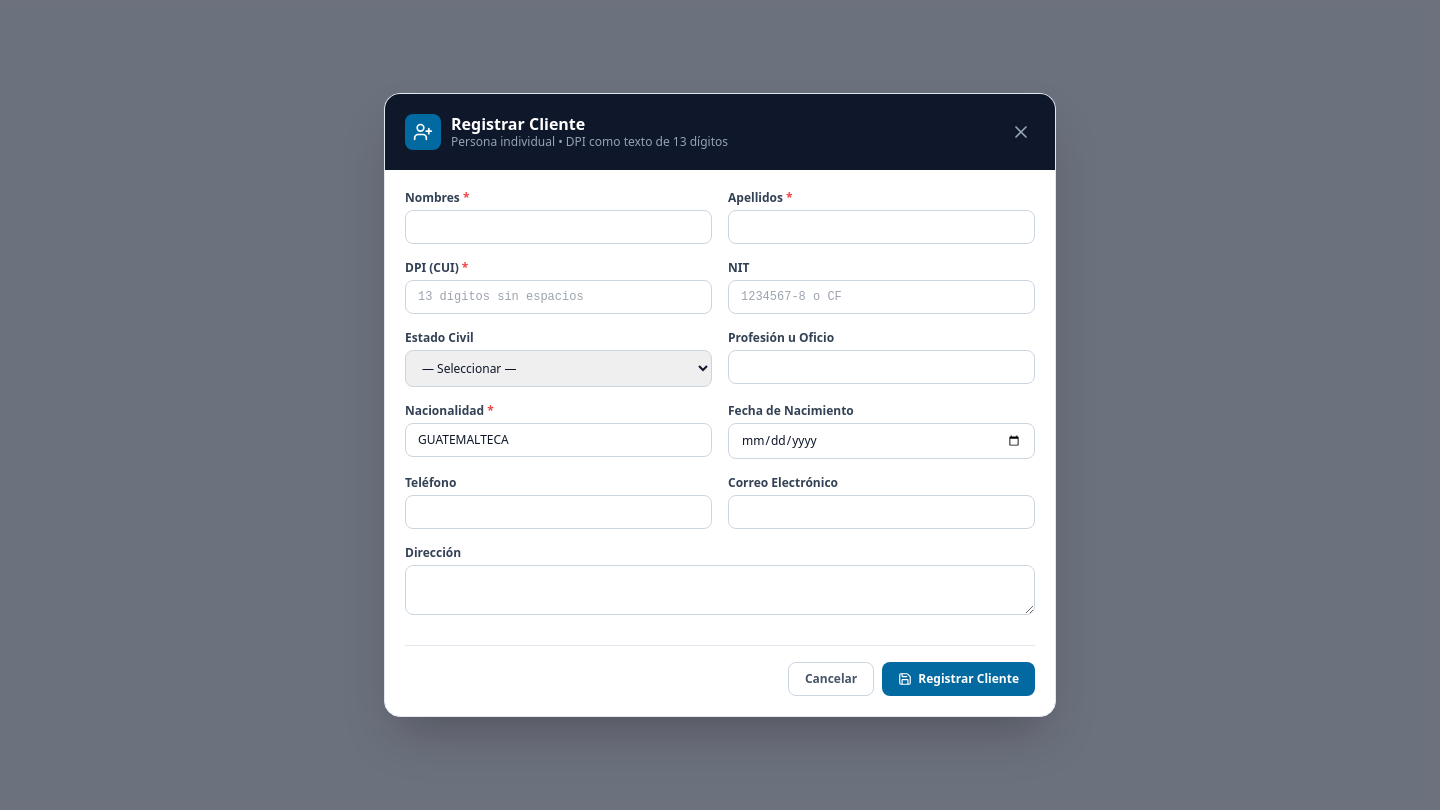
Scenario: ClientFormModal › rechaza un DPI con menos de 13 dígitos y no envía el formulario
In the field labelled "Nombres *": (558, 227) [405, 210, 712, 244], type "Juan Carlos"
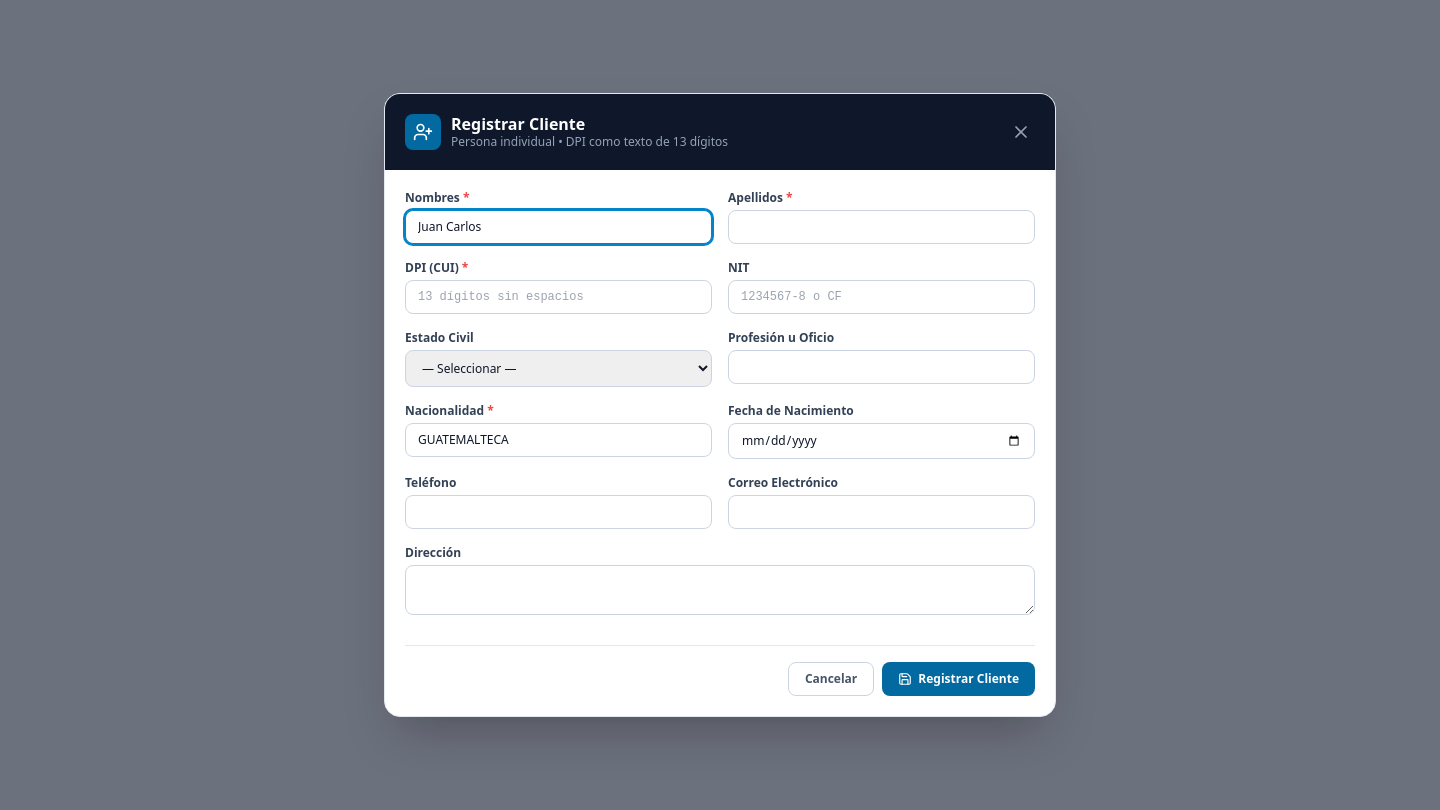
In the field labelled "Apellidos *": (882, 227) [728, 210, 1035, 244], type "Pérez López"
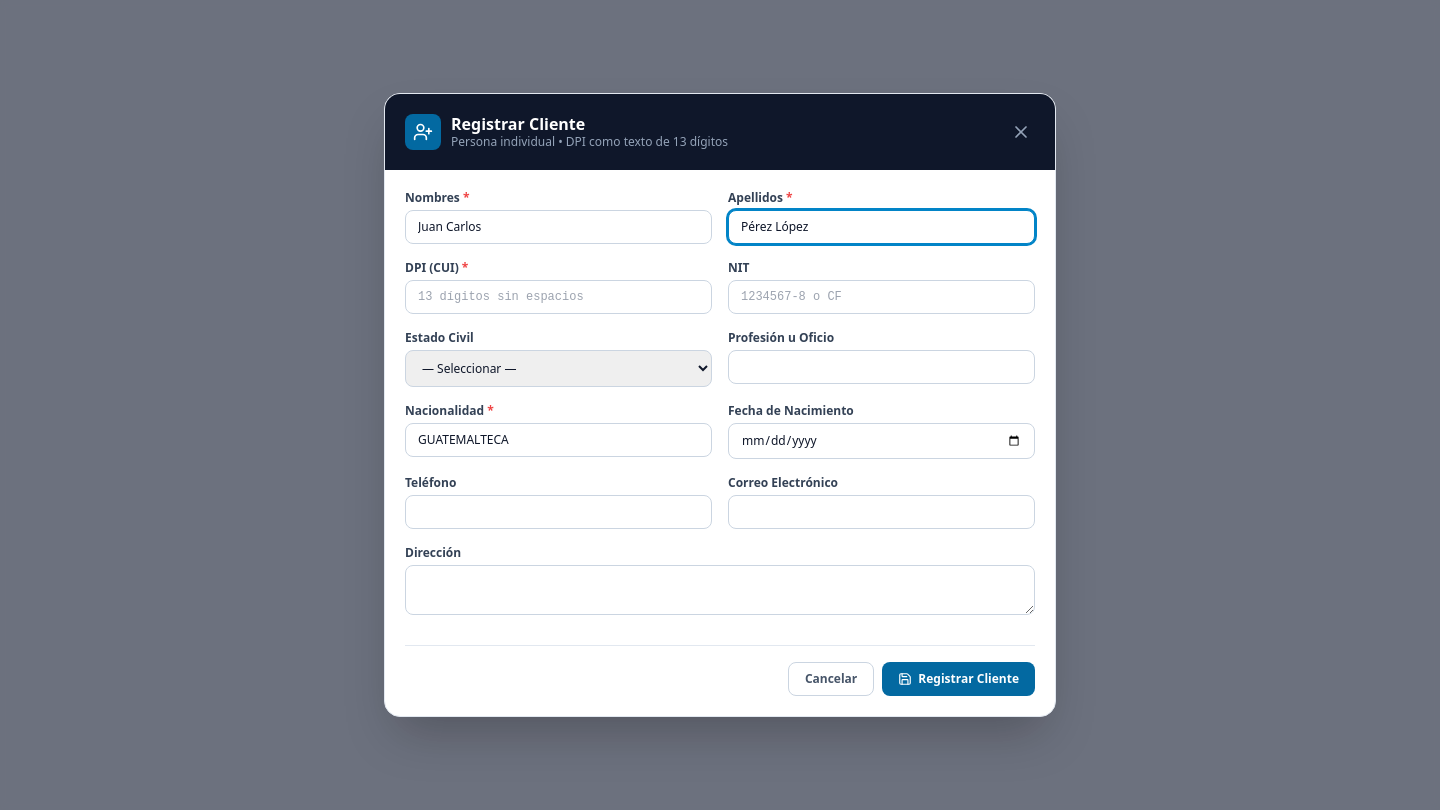
In the field labelled "DPI (CUI) *": (558, 297) [405, 280, 712, 314], type "12345"
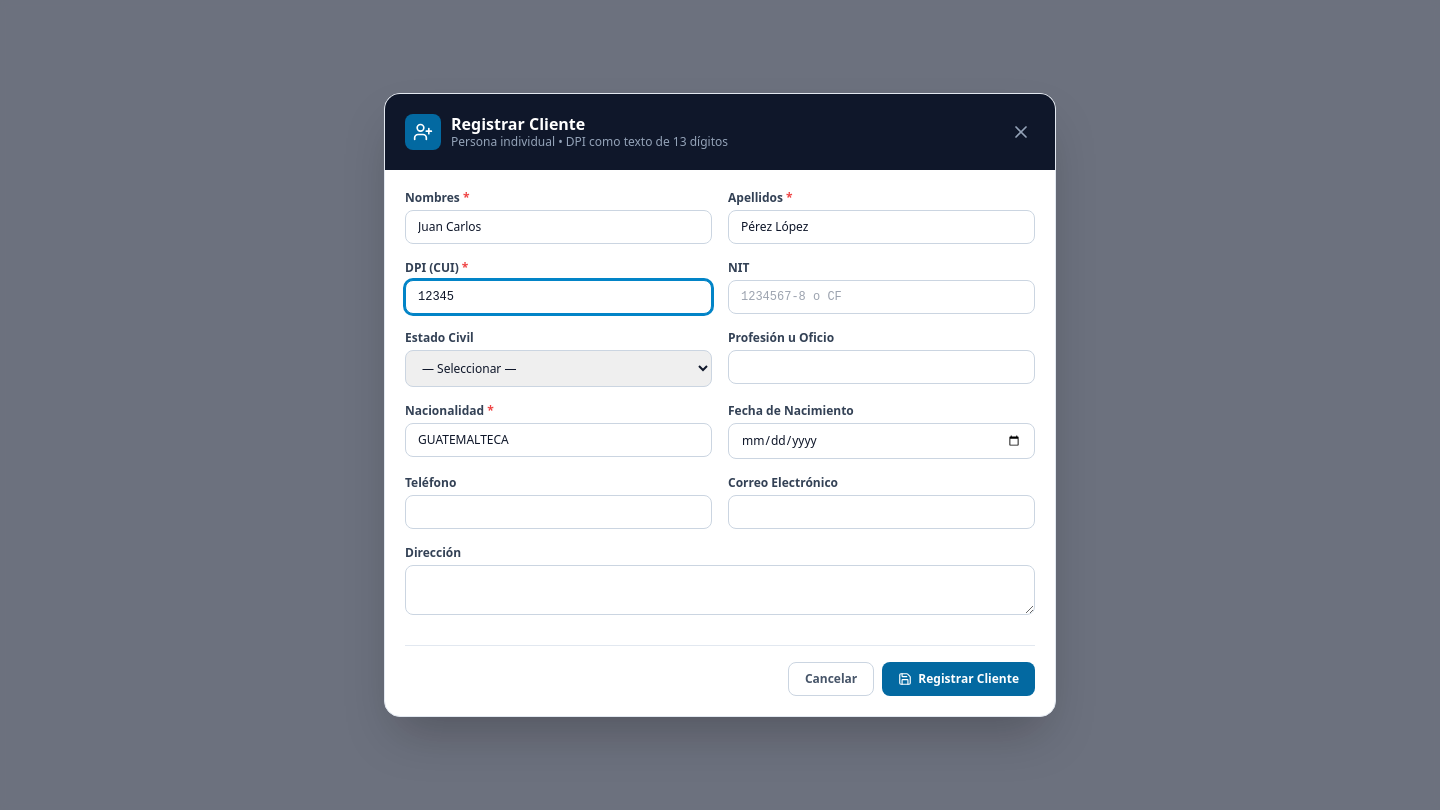
Click the button "Registrar Cliente": (959, 679) [882, 662, 1035, 696]
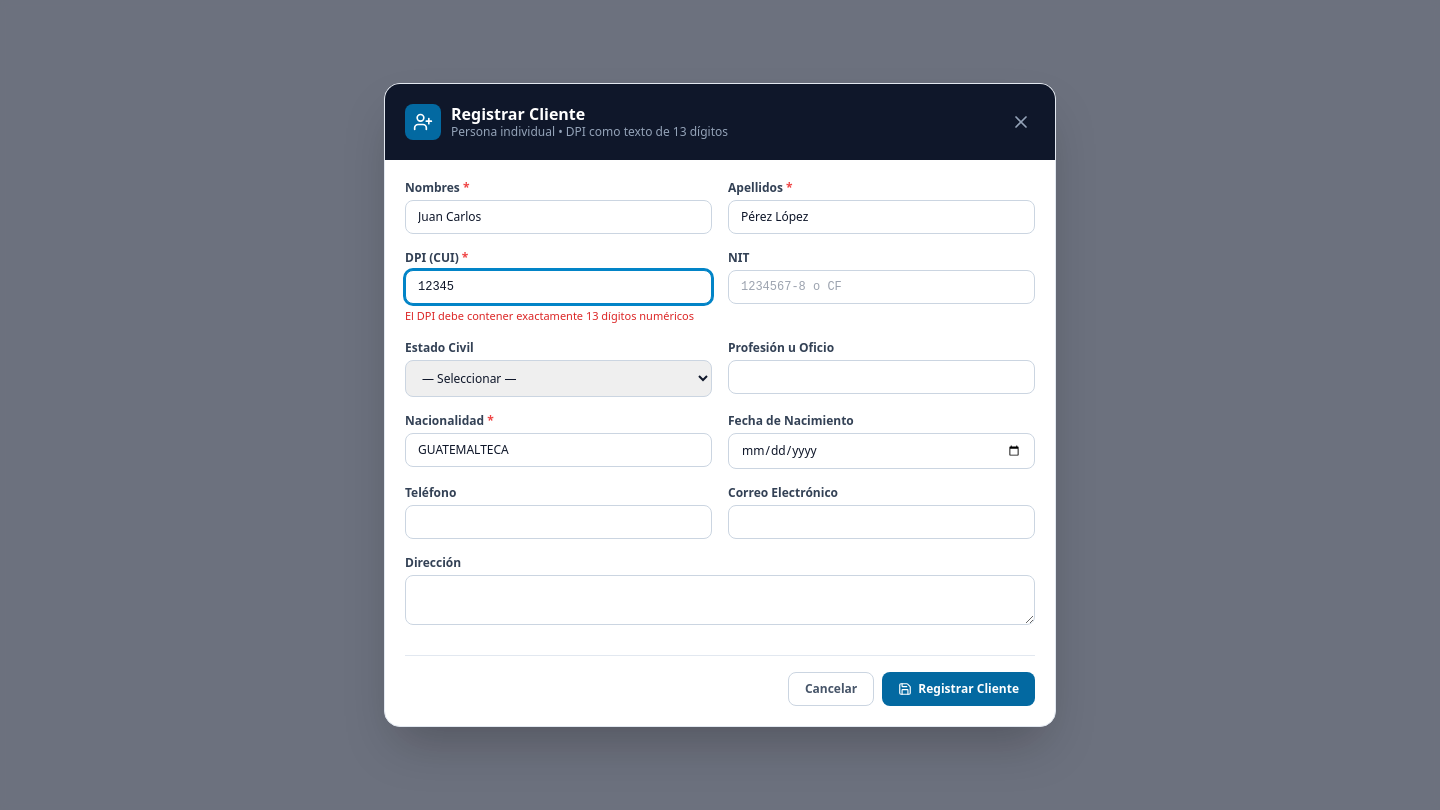
Expected: the text "El DPI debe contener exactamente 13 dígitos numéricos" is shown, [405, 308, 712, 324]
